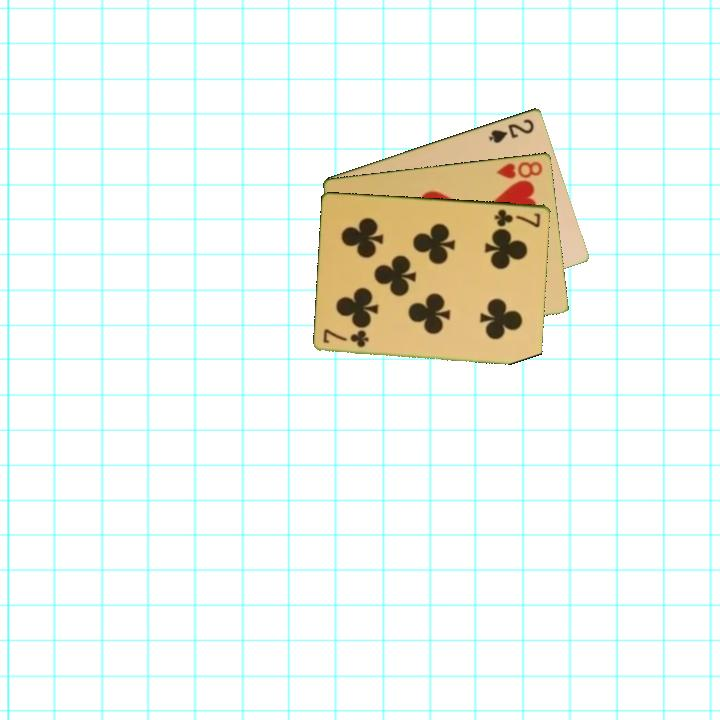2s: (485, 115, 537, 146)
7c: (491, 206, 543, 230), (320, 327, 372, 350)
8h: (493, 158, 546, 181)
